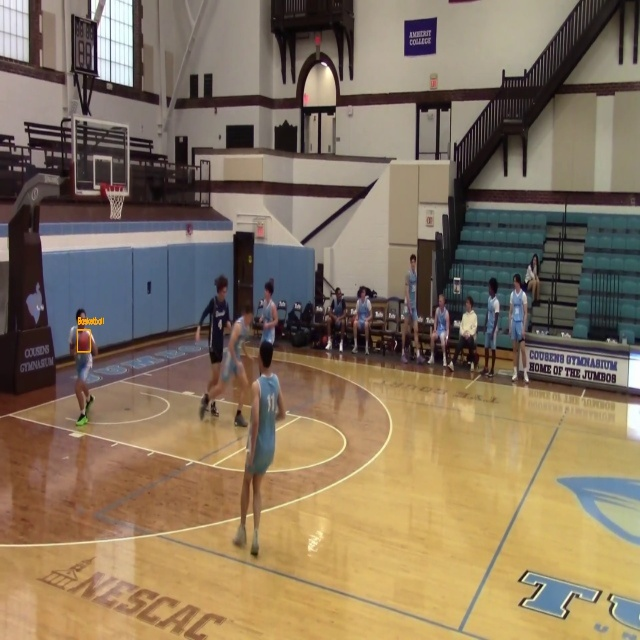Basketball: (77, 330, 90, 352)
